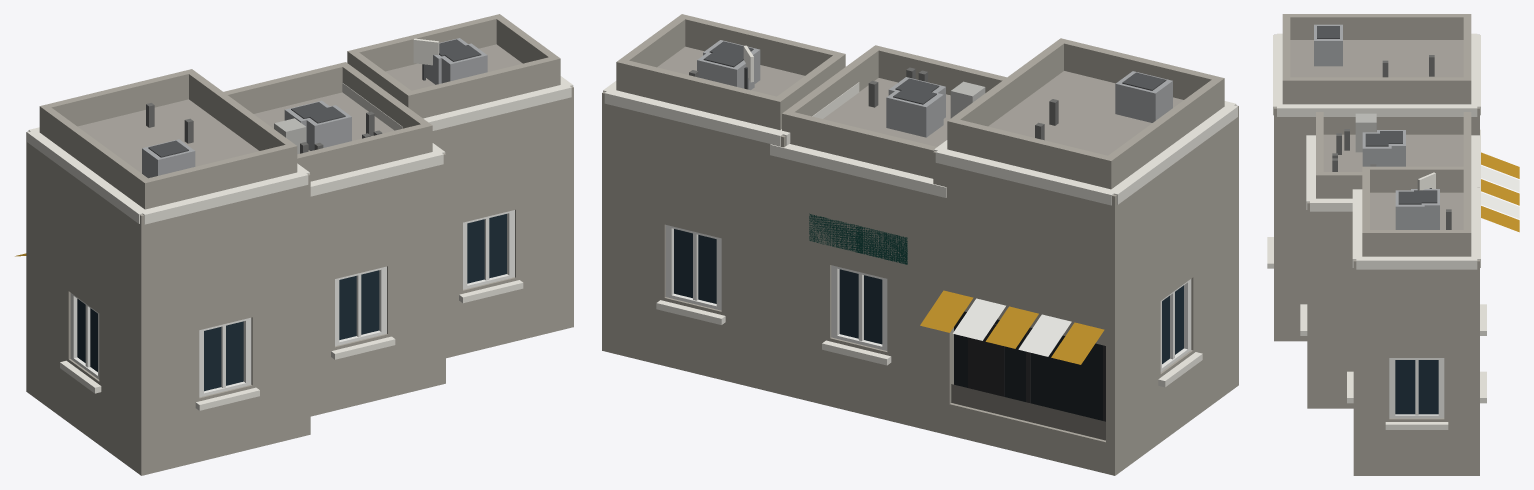
3 renders of one model, left to right at view 1: azimuth 30°, elevation 25°; view 2: azimuth 150°, elevation 25°; view 3: azimuth 270°, elevation 25°, orthographic. The views are drawn at different scales.
Parts seen in each view (by area): view 1: b9321_opaque, b9321_glass; view 2: b9321_opaque, b9321_glass; view 3: b9321_opaque, b9321_glass.
Boxes of the visible parts, x1=… form: b9321_opaque: x1=15, y1=14, x2=573, y2=475; b9321_glass: x1=77, y1=214, x2=506, y2=391; b9321_opaque: x1=602, y1=14, x2=1238, y2=475; b9321_glass: x1=674, y1=229, x2=1183, y2=420; b9321_opaque: x1=1267, y1=14, x2=1519, y2=475; b9321_glass: x1=1395, y1=360, x2=1438, y2=414.
Size of the model in its own units: 5260 by 2985 by 2619.
